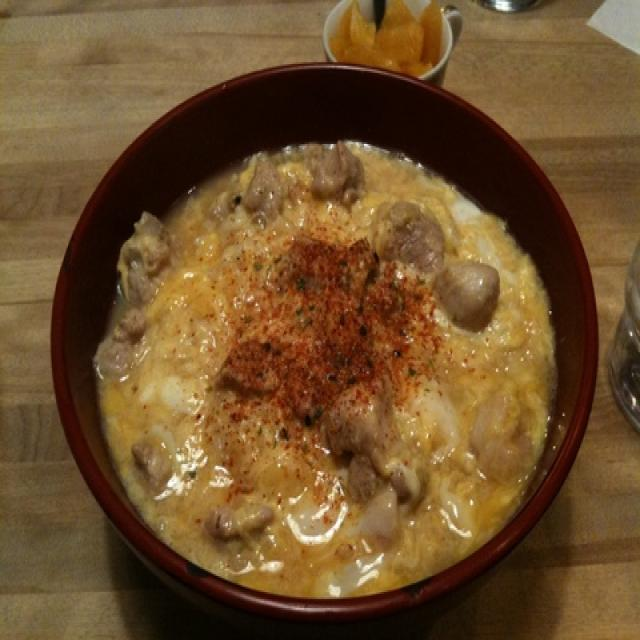米饭主食: (30, 39, 618, 640)
